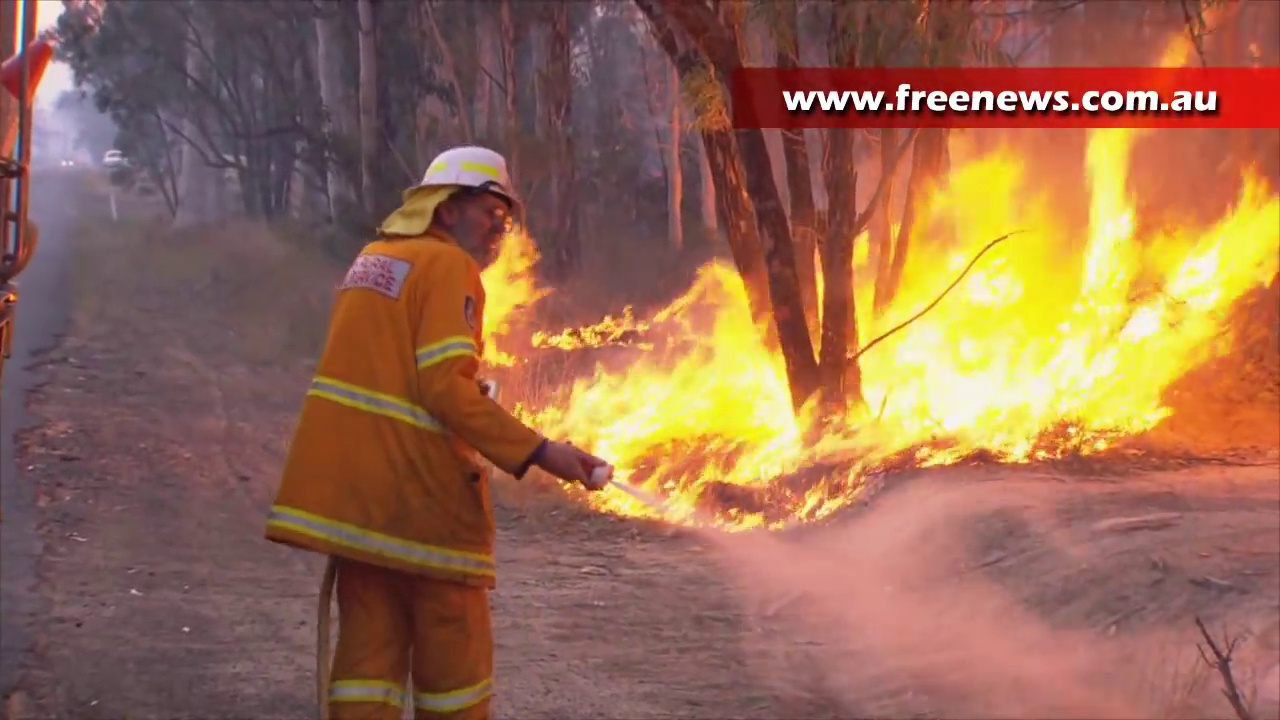fire: (841, 123, 1280, 477), (516, 255, 843, 537), (479, 232, 534, 368), (542, 317, 637, 349)
